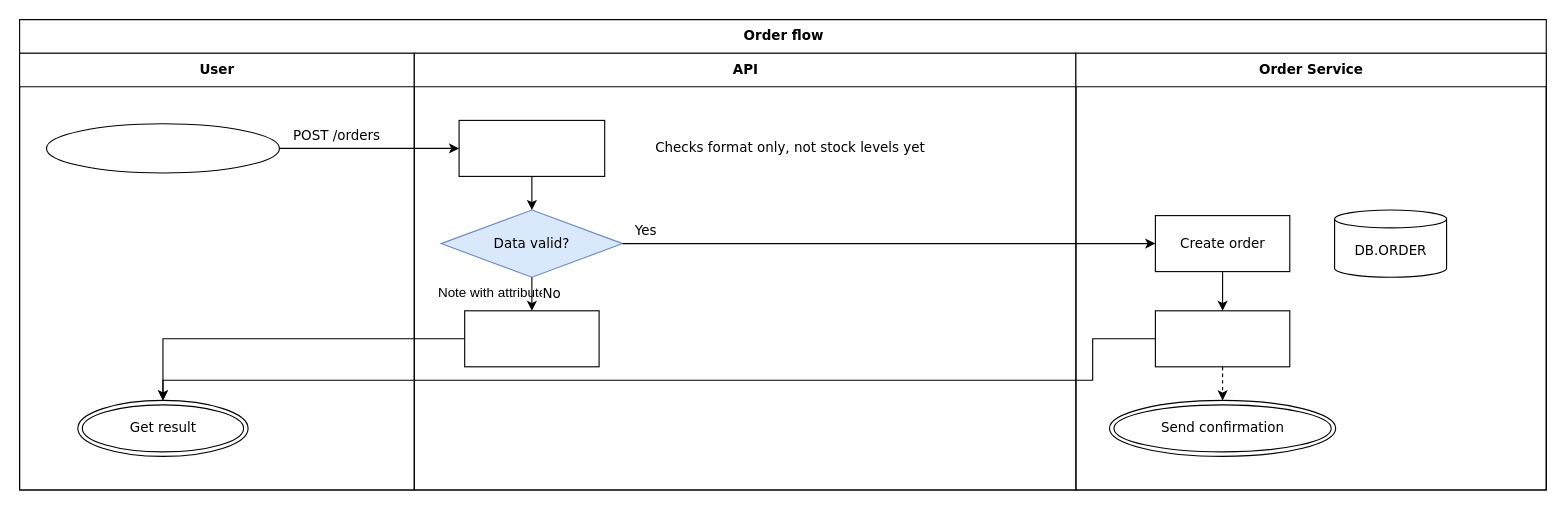
Image size: 1567x510. Some labels were removed from this diagram. The shapes that lost their labels are listed below. From the top down, each one's centre as x and y in pixels, then its label:
At point (162, 148): "Submit order request".
At point (531, 147): "Validate data".
At point (531, 338): "Return 400".
At point (1222, 338): "Return result".
